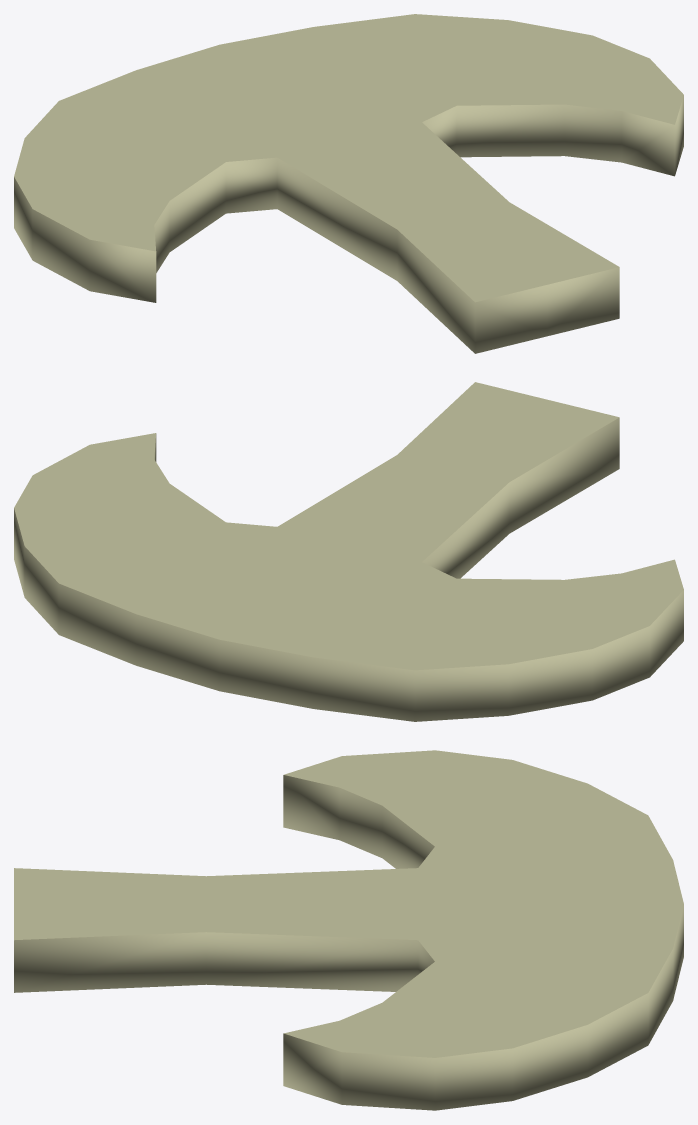
File: CogumeloCortado.fbx
The picture shows the model from 3 angles, top to bottom: view 1: azimuth 30°, elevation 25°; view 2: azimuth 150°, elevation 25°; view 3: azimuth 270°, elevation 25°; orthographic projection. The views are drawn at different scales.
Visible parts, largest first — view 1: CogumeloCortado; view 2: CogumeloCortado; view 3: CogumeloCortado.
Boxes of the visible parts, x1,y1,x2,y2 form: CogumeloCortado: (14, 14, 683, 353); CogumeloCortado: (14, 382, 683, 721); CogumeloCortado: (14, 750, 683, 1110).
Size of the model in its own units: 39.38 by 3.14 by 36.24.
